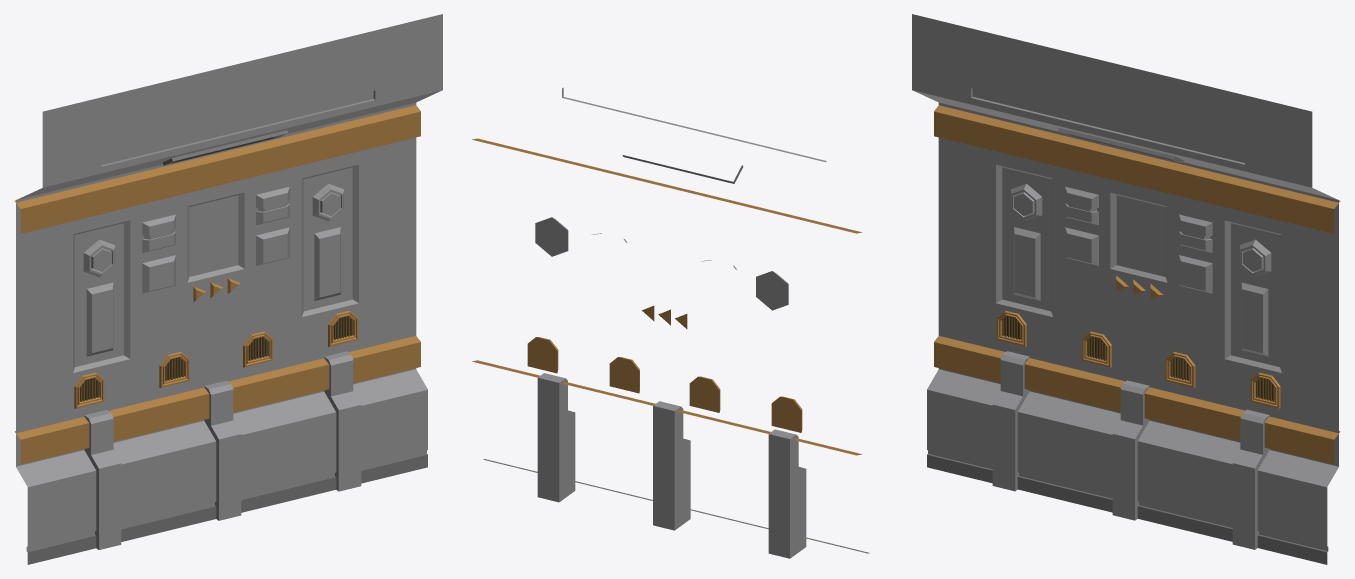
Rendered from quaternius-modular-sci-fi-wall-3.glb.
3 renders of one model, left to right at view 1: azimuth 30°, elevation 25°; view 2: azimuth 150°, elevation 25°; view 3: azimuth 330°, elevation 25°, orthographic. The views are drawn at different scales.
Visible parts, largest first — view 1: Wall_3; view 2: Wall_3; view 3: Wall_3.
Part boxes in pixels (x1,y1,x2,y2): Wall_3: [14, 14, 442, 564]; Wall_3: [472, 87, 869, 558]; Wall_3: [912, 14, 1340, 564].
Bounding box in the file's own units: 4 × 4.43 × 0.523.
2 materials, 2 textured.
